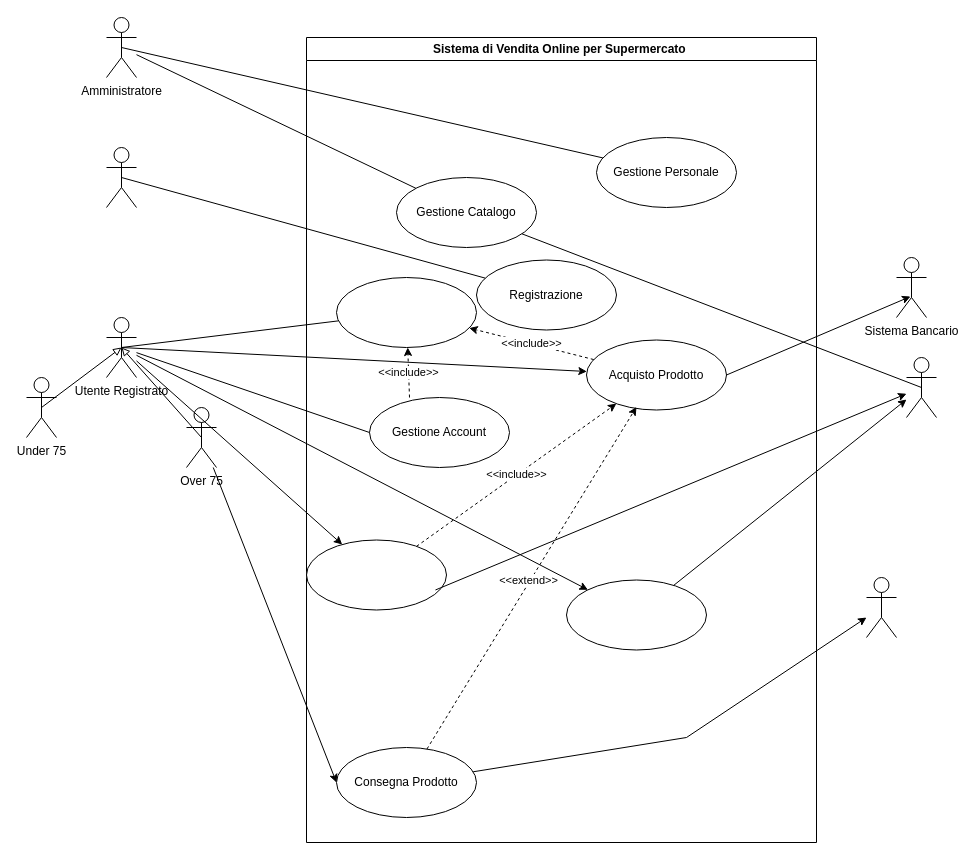
Some shapes in this 976 by 860 pixel diagram are drawn without their labels. The shapes that lost their labels are listed below. From the top down, each one's centre as x and y in pixels, then its label:
At [121,177]: "Utente NON Registrato".
At [406,312]: "Login".
At [921,387]: "Dipendente".
At [376,574]: "Reso Prodotto".
At [636,614]: "Assistenza Cliente".
At [881,607]: "Sistema di Consegna".
